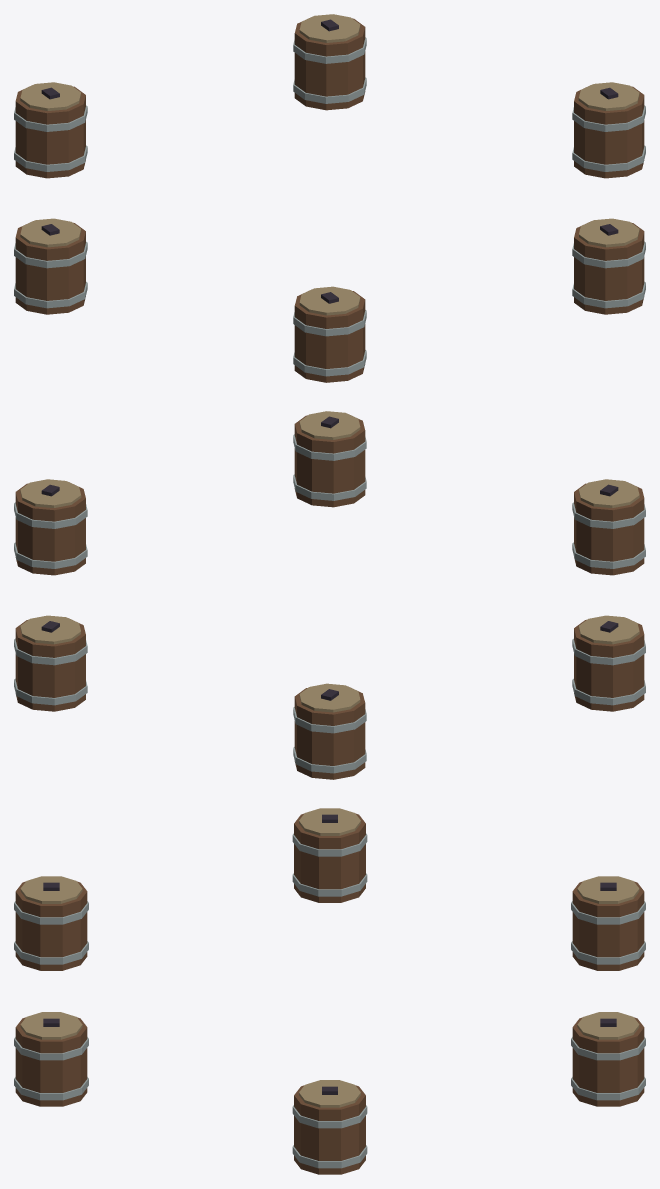
Rendered from fortify.glb.
3 renders of one model, top to bottom at view 1: azimuth 30°, elevation 25°; view 2: azimuth 150°, elevation 25°; view 3: azimuth 270°, elevation 25°, orthographic.
Visible parts, largest first — view 1: Cone; view 2: Cone; view 3: Cone.
Part boxes in pixels (x1,y1,x2,y2): Cone: (14, 14, 645, 382); Cone: (14, 411, 645, 779); Cone: (14, 808, 645, 1174).
Bounding box in the file's own units: 3.07 × 0.3379 × 2.71.
